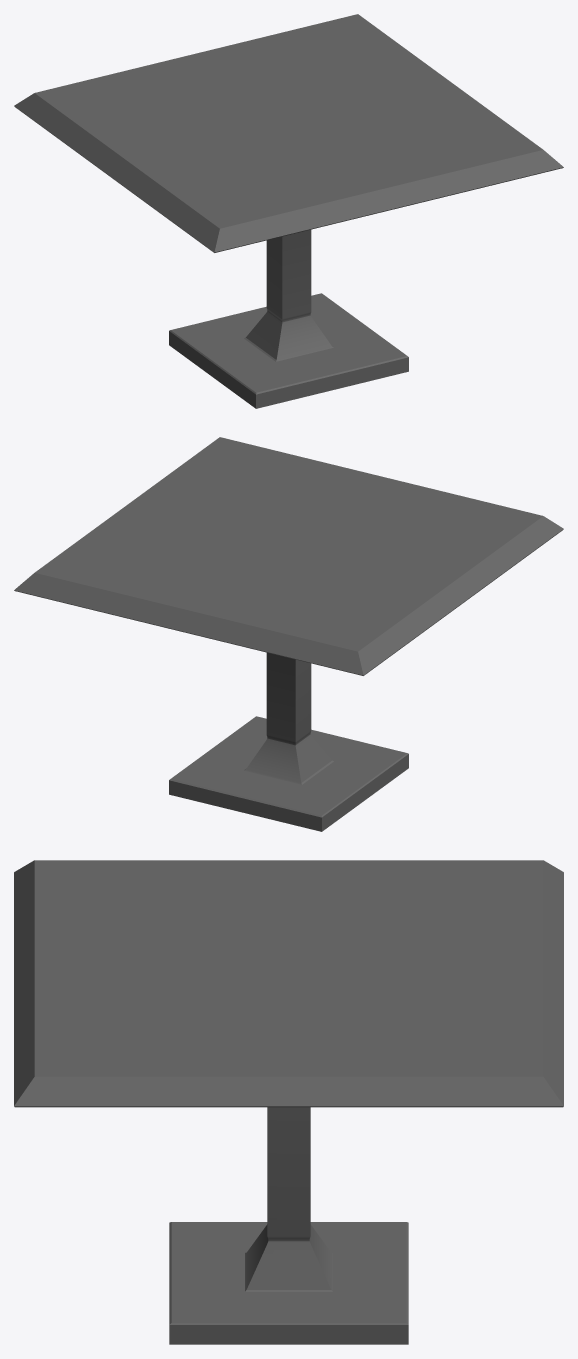
The model's file is cafeteria-square-table.glb.
The picture shows the model from 3 angles, top to bottom: view 1: azimuth 30°, elevation 25°; view 2: azimuth 150°, elevation 25°; view 3: azimuth 270°, elevation 25°; orthographic projection. The views are drawn at different scales.
Visible parts, largest first — view 1: Object_12; view 2: Object_12; view 3: Object_12.
Boxes of the visible parts, x1,y1,x2,y2 form: Object_12: (14, 14, 563, 408); Object_12: (14, 437, 563, 831); Object_12: (14, 860, 563, 1344).
Size of the model in its own units: 0.2922 by 0.1893 by 0.2902.
Materials: 1 (1 with a texture image).
